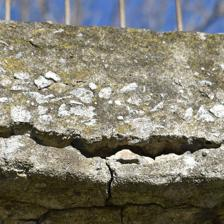Crack: (5, 53, 116, 156), (101, 0, 120, 169), (205, 21, 224, 67)
